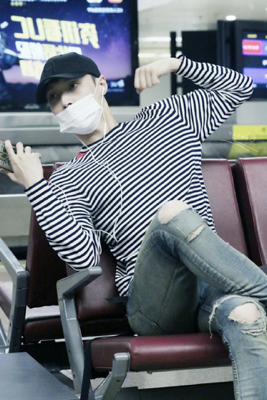mask_weared_incorrect: (47, 77, 100, 133)
